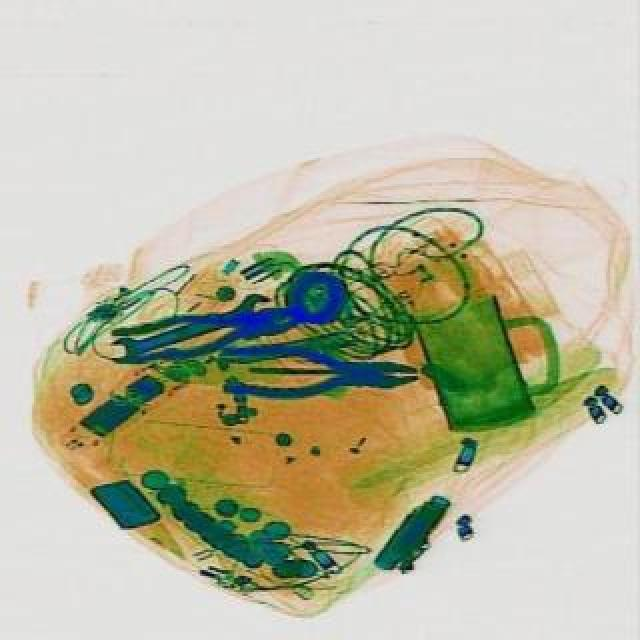scissors: (106, 286, 274, 366)
wrench: (104, 292, 296, 372), (218, 340, 416, 400)
